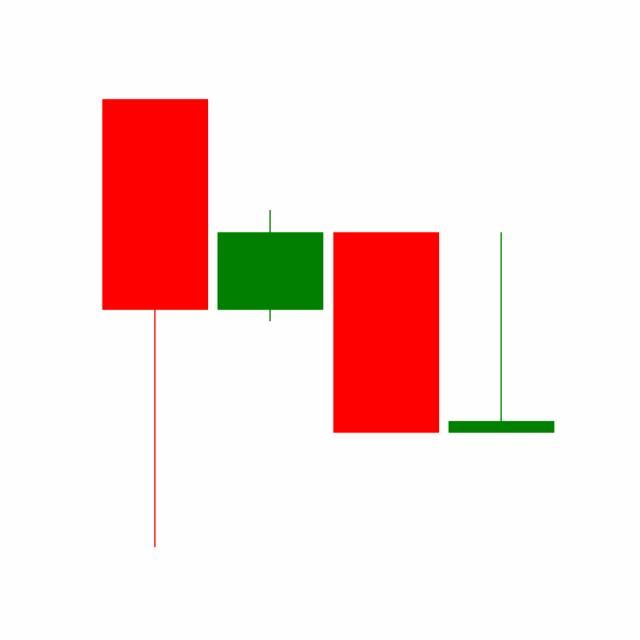Gravestone Doji: (444, 231, 560, 436)
